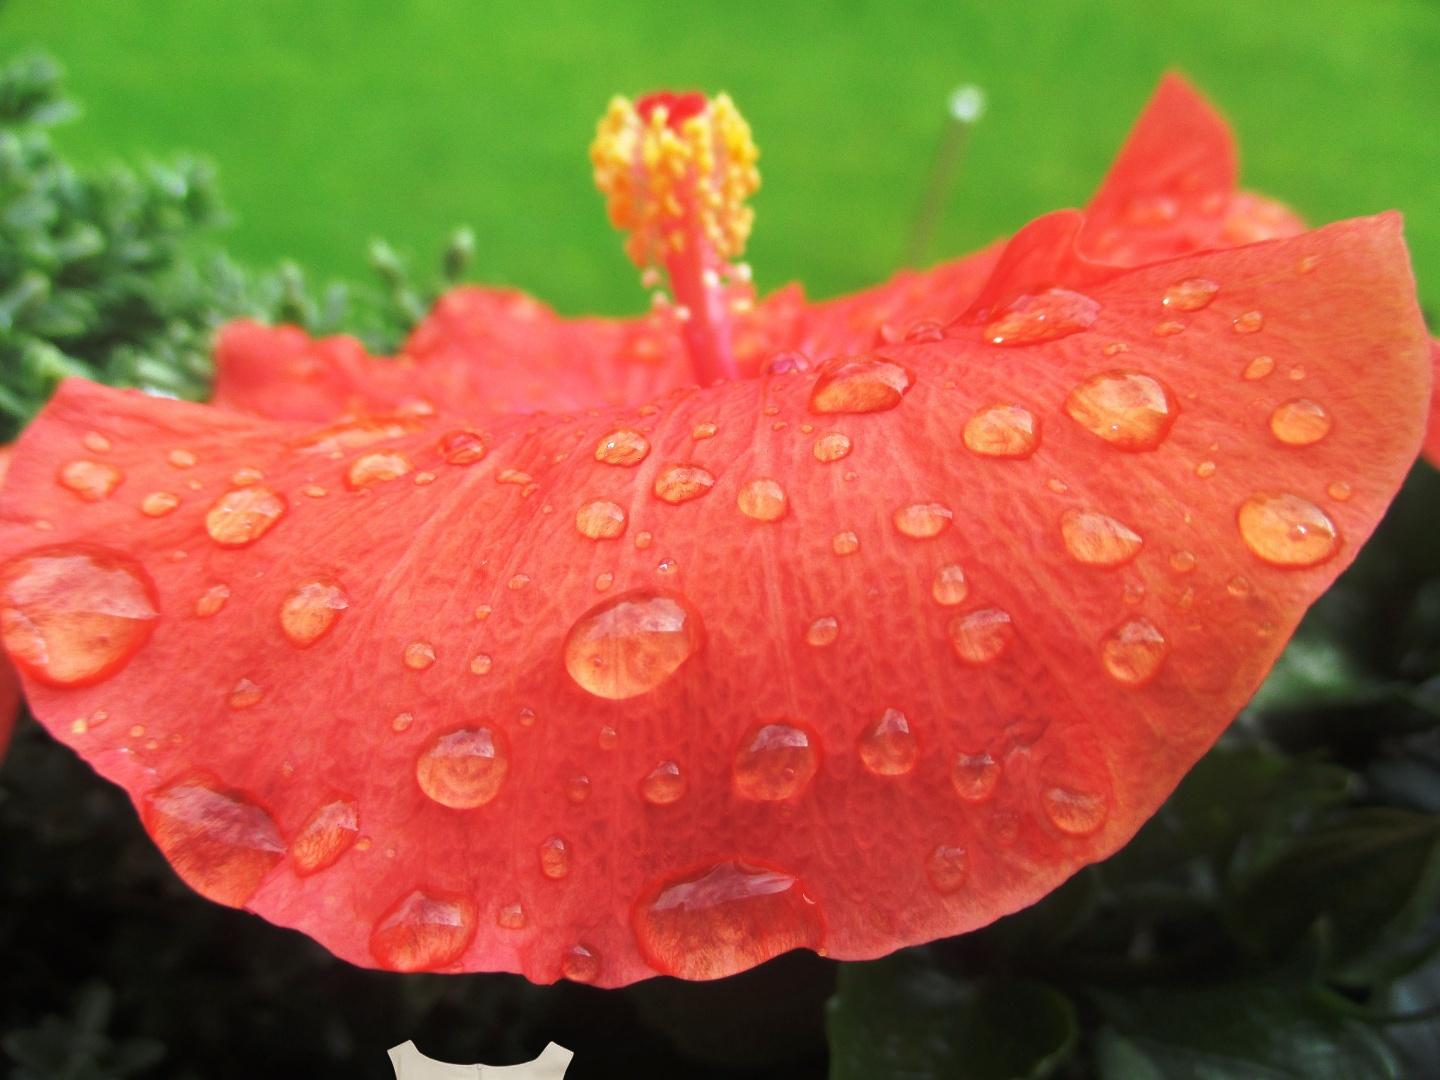clothes: (351, 1033, 611, 1080)
